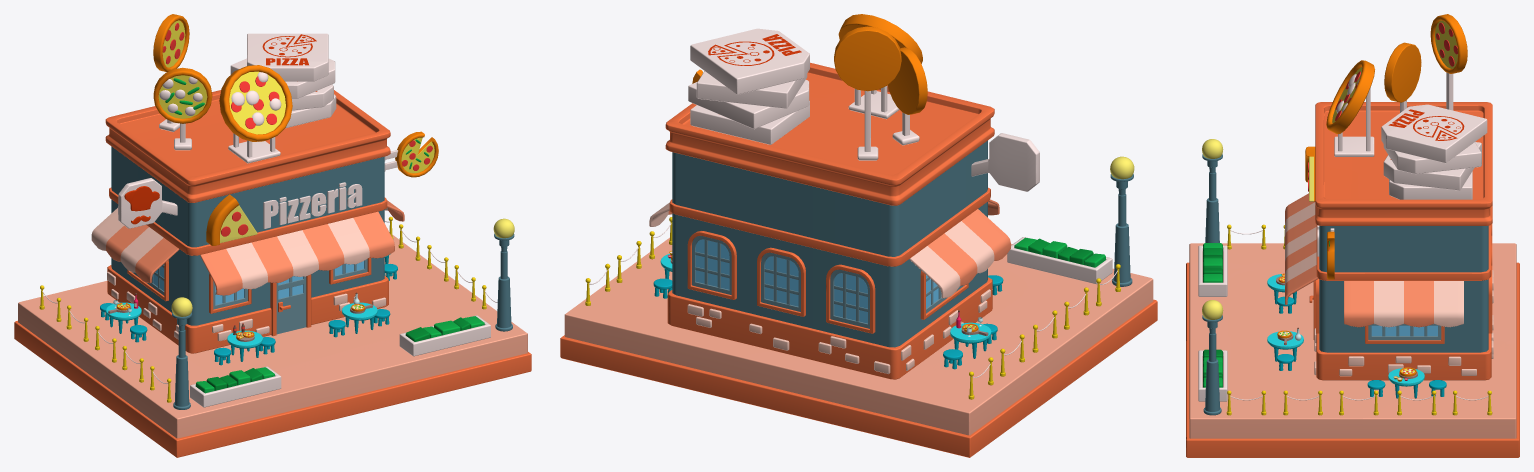
File: Store_Island_1.glb
3 views of the same model, side by side, from view 1: azimuth 30°, elevation 25°; view 2: azimuth 150°, elevation 25°; view 3: azimuth 270°, elevation 25° (orthographic). The views are drawn at different scales.
Parts seen in each view (by area): view 1: Store_1_Pizzeria_1, Store_1_Base_1, Store_1_Pizza_Sign_1, Store_1_Pizza_Box_4, Store_1_Pizza_Sign_2, Store_1_Plant_2, Store_1_Plant_1, Store_1_Chef_Logo_1, Store_1_Pizza_Sign_3, Store_1_Logo_Pizza_1, Store_1_Street_Lamp_2, Store_1_Street_Lamp_1 (+6 smaller); view 2: Store_1_Pizzeria_1, Store_1_Base_1, Store_1_Pizza_Box_4, Store_1_Pizza_Sign_3, Store_1_Plant_2, Store_1_Chef_Logo_1, Store_1_Pizza_Sign_2, Store_1_Pizza_Box_1, Store_1_Pizza_Sign_1, Store_1_Pizza_Box_2, Store_1_Pizza_Box_3, Store_1_Street_Lamp_1 (+1 smaller); view 3: Store_1_Pizzeria_1, Store_1_Base_1, Store_1_Pizza_Box_4, Store_1_Pizza_Sign_1, Store_1_Pizza_Sign_3, Store_1_Pizza_Sign_2, Store_1_Plant_2, Store_1_Street_Lamp_2, Store_1_Pizza_Box_3, Store_1_Pizza_Box_2, Store_1_Street_Lamp_1, Store_1_Pizza_Box_1 (+4 smaller).
Part boxes in pixels (x1,y1,x2,y2): Store_1_Pizzeria_1: (91, 90, 404, 353); Store_1_Base_1: (14, 234, 531, 457); Store_1_Pizza_Sign_1: (219, 65, 292, 163); Store_1_Pizza_Box_4: (247, 33, 328, 81); Store_1_Pizza_Sign_2: (153, 67, 212, 150); Store_1_Plant_2: (190, 366, 281, 407); Store_1_Plant_1: (399, 315, 490, 356); Store_1_Chef_Logo_1: (118, 178, 177, 228); Store_1_Pizza_Sign_3: (153, 14, 189, 131); Store_1_Logo_Pizza_1: (384, 131, 438, 177); Store_1_Street_Lamp_2: (493, 218, 514, 331); Store_1_Street_Lamp_1: (171, 297, 192, 409); Store_1_Pizzeria_1: (649, 62, 1010, 379); Store_1_Base_1: (560, 237, 1157, 457); Store_1_Pizza_Box_4: (690, 28, 809, 94); Store_1_Pizza_Sign_3: (834, 26, 901, 160); Store_1_Plant_2: (1007, 237, 1112, 284); Store_1_Chef_Logo_1: (971, 133, 1039, 191); Store_1_Pizza_Sign_2: (888, 47, 927, 145); Store_1_Pizza_Box_1: (690, 100, 809, 144); Store_1_Pizza_Sign_1: (838, 14, 922, 119); Store_1_Pizza_Box_2: (688, 80, 809, 129); Store_1_Pizza_Box_3: (696, 71, 807, 108); Store_1_Street_Lamp_1: (1110, 156, 1134, 286); Store_1_Pizzeria_1: (1285, 102, 1493, 380); Store_1_Base_1: (1186, 243, 1519, 457); Store_1_Pizza_Box_4: (1381, 104, 1487, 163); Store_1_Pizza_Sign_1: (1326, 60, 1374, 156); Store_1_Pizza_Sign_3: (1430, 14, 1467, 110); Store_1_Pizza_Sign_2: (1384, 42, 1421, 112); Store_1_Plant_2: (1198, 243, 1227, 296); Store_1_Street_Lamp_2: (1202, 300, 1223, 415); Store_1_Pizza_Box_3: (1383, 142, 1481, 173); Store_1_Pizza_Box_2: (1383, 142, 1481, 190); Store_1_Street_Lamp_1: (1202, 139, 1223, 242); Store_1_Pizza_Box_1: (1389, 171, 1472, 199).
Size of the model in its own units: 15.84 by 13.52 by 12.56.
56 materials, 56 textured.
